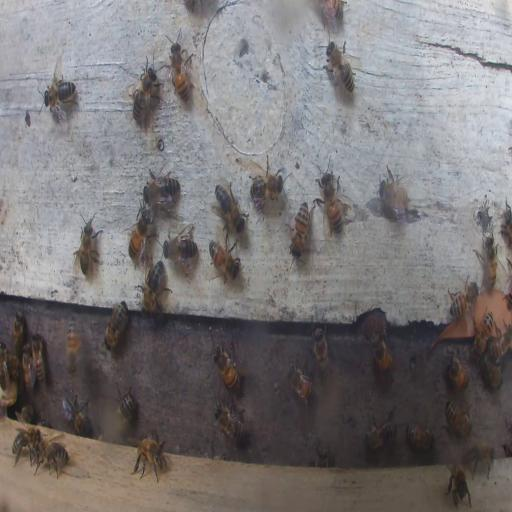bee: (129, 58, 162, 130), (248, 156, 284, 214), (129, 429, 169, 481), (379, 162, 413, 222), (317, 156, 342, 236), (74, 212, 102, 281), (325, 39, 357, 97), (213, 180, 245, 234), (39, 69, 79, 111), (145, 168, 182, 210), (127, 206, 153, 264), (164, 223, 198, 267), (365, 408, 397, 454), (142, 260, 170, 312), (464, 440, 498, 482), (212, 342, 241, 390), (170, 39, 192, 102), (36, 438, 70, 477), (213, 402, 245, 443), (208, 238, 239, 280), (286, 362, 315, 405), (104, 299, 128, 350), (288, 201, 310, 256), (310, 324, 330, 383), (480, 234, 498, 294), (472, 309, 494, 358), (12, 426, 41, 463), (446, 462, 470, 506), (65, 318, 83, 376), (368, 332, 392, 374), (444, 352, 470, 390), (448, 282, 477, 316), (444, 402, 471, 437), (115, 384, 135, 428), (405, 424, 436, 450), (488, 327, 512, 359), (2, 346, 18, 394), (320, 0, 348, 24), (21, 340, 34, 390), (32, 333, 44, 386), (481, 358, 502, 388), (72, 404, 90, 434), (62, 397, 81, 425), (12, 310, 24, 354), (502, 200, 512, 244), (20, 406, 36, 426), (314, 446, 329, 467)
